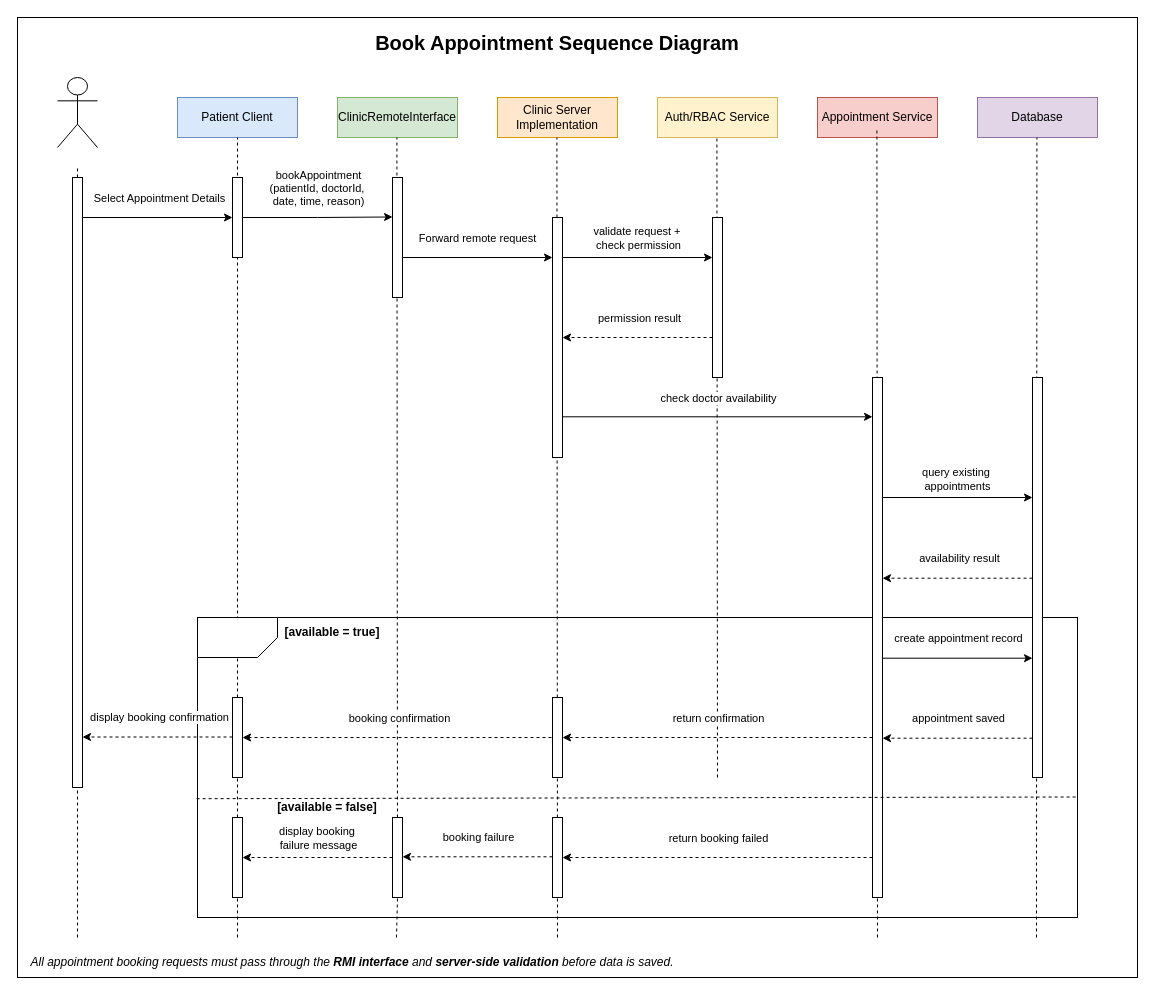
This 1155x995 diagram has some shape labels left out. The centre of each missing label's shape, as x and y in pixels:
ALT: (237,637)
Patient: (77,112)
